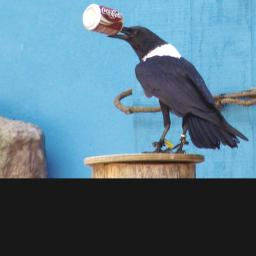Crow: (105, 24, 250, 155)
